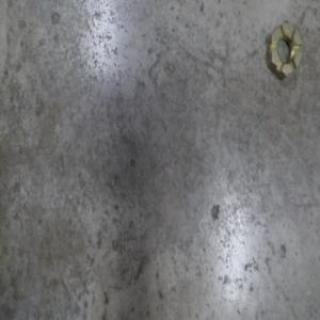Nuttrack_idkeyframe: (265, 19, 303, 84)
